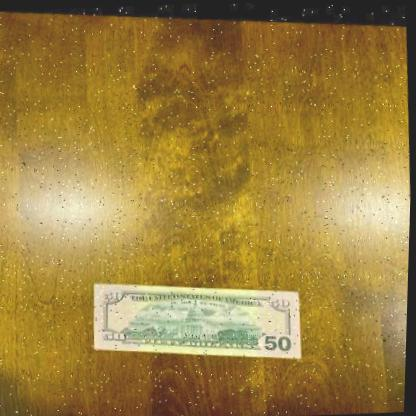fifty-back: (92, 270, 306, 363)
